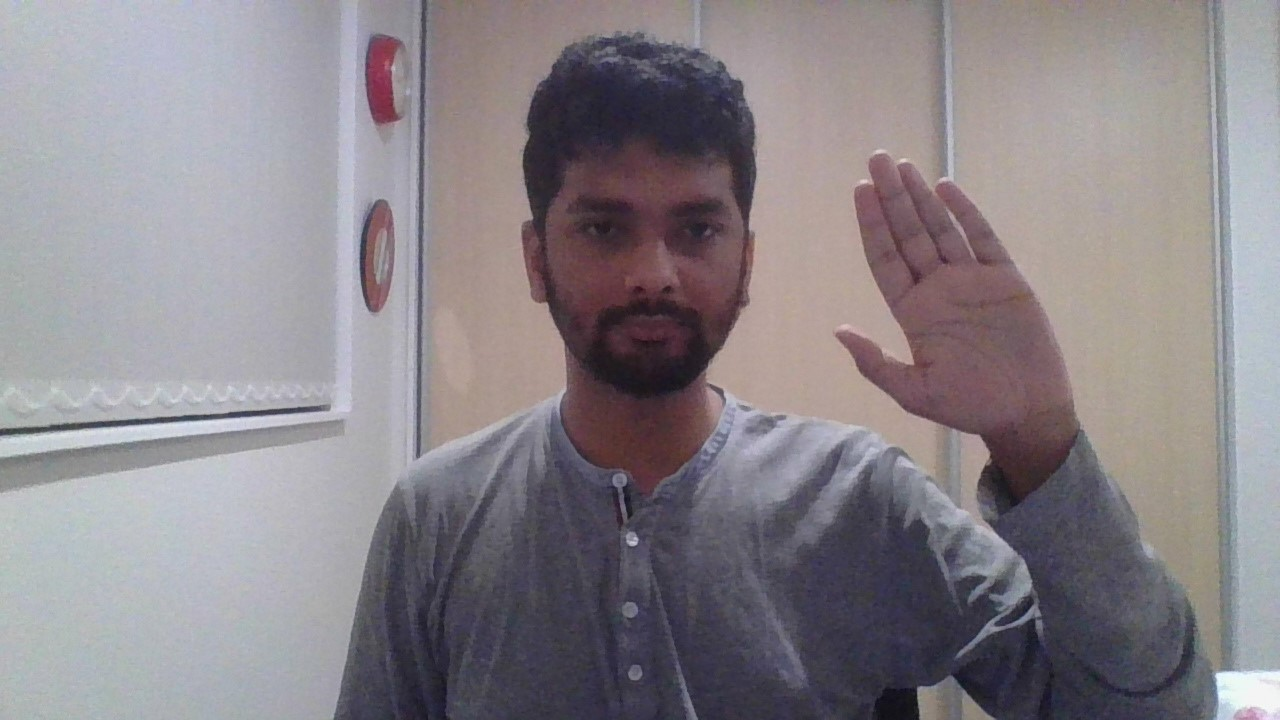hello: (834, 151, 1073, 435)
